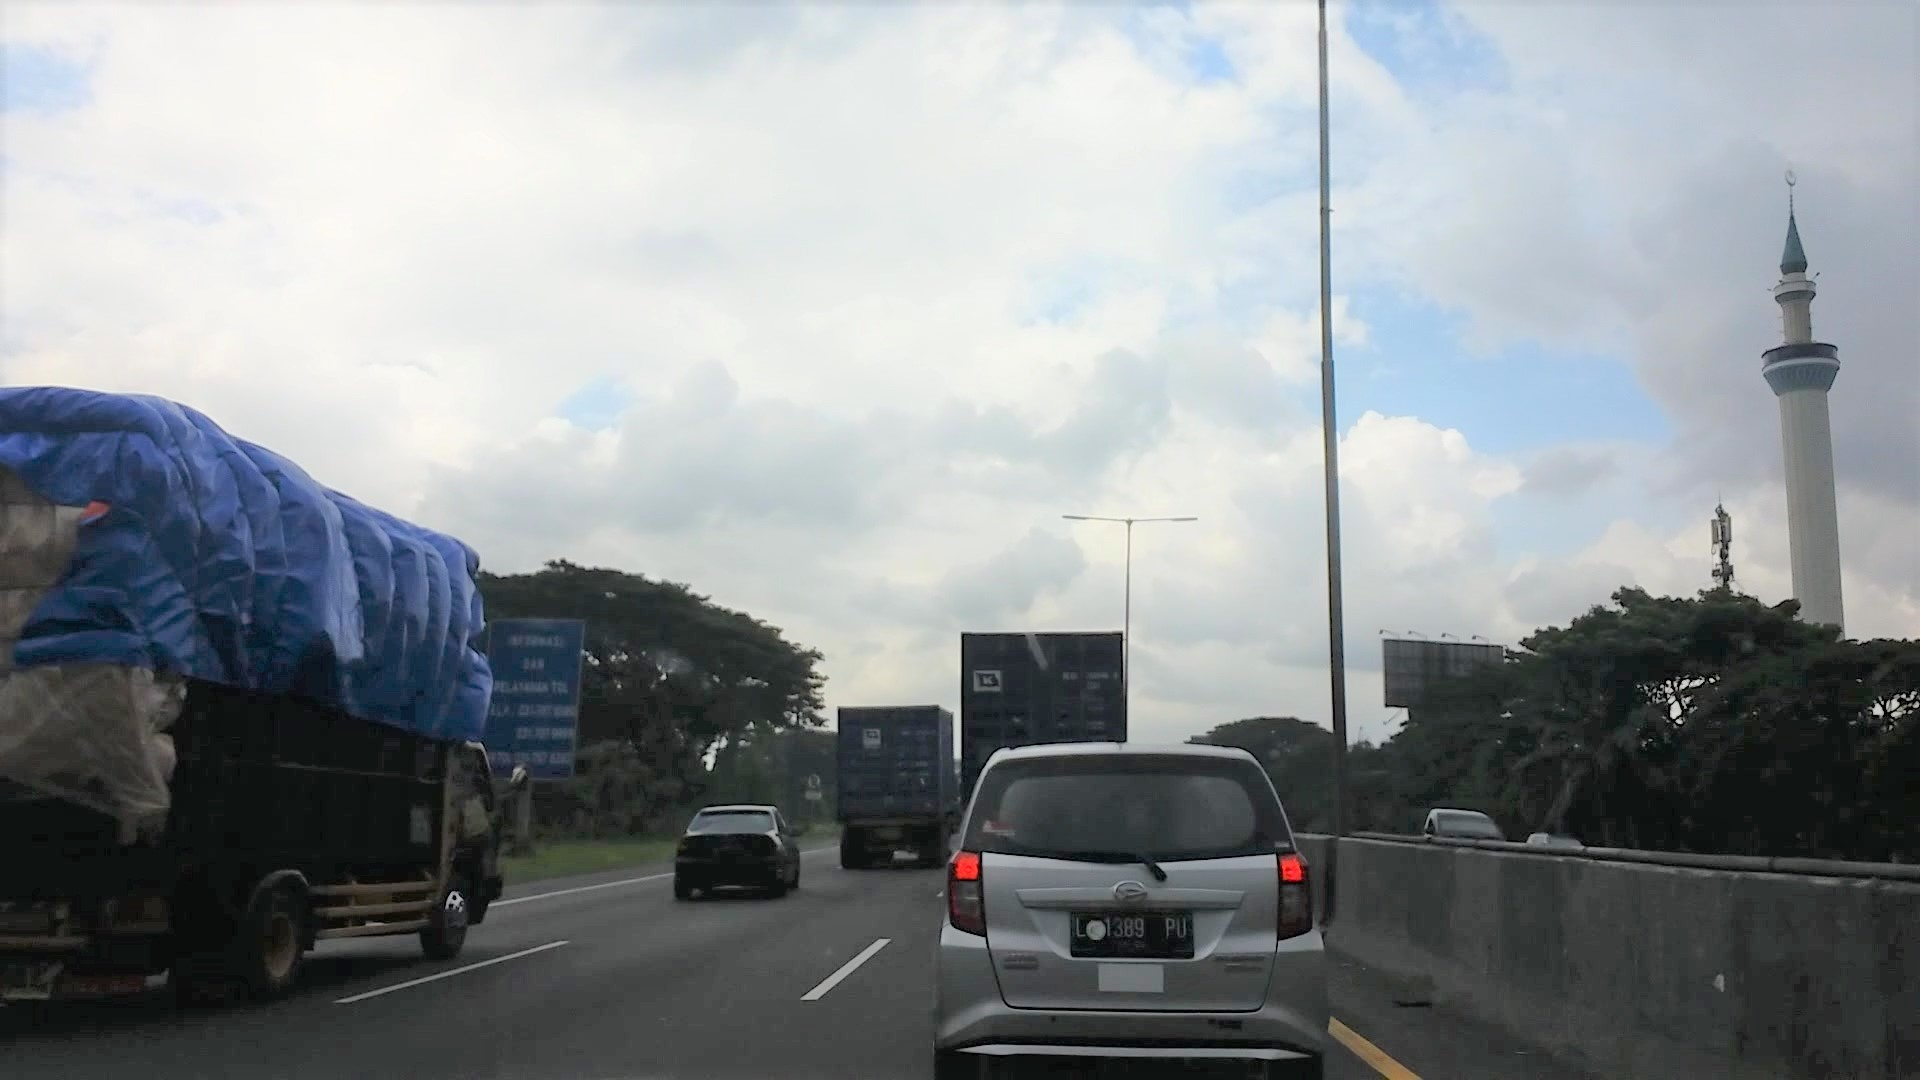plate_positive: (1071, 910, 1193, 957)
